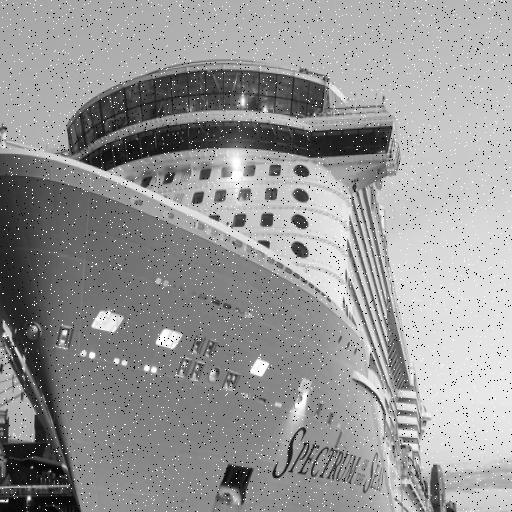cruises: (1, 40, 442, 512)
